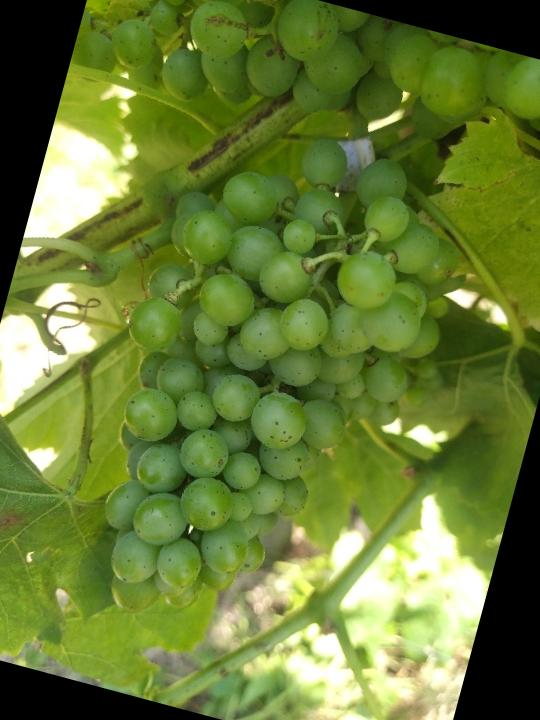grape: (52, 97, 485, 676)
